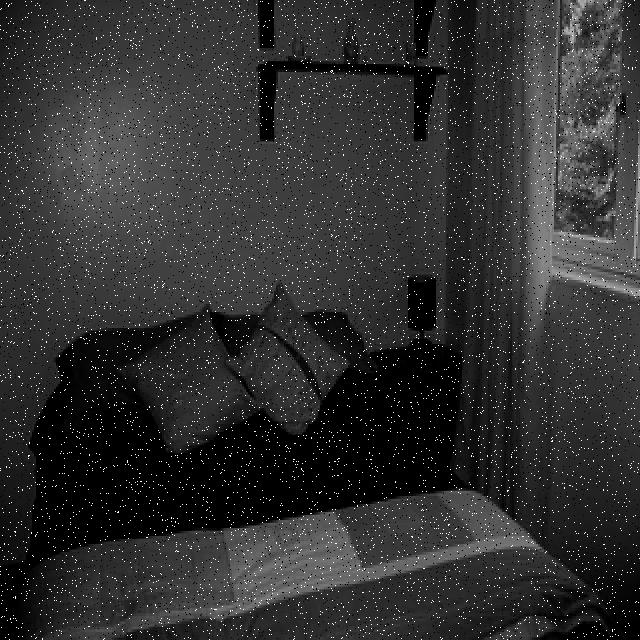bed: (23, 296, 612, 640)
